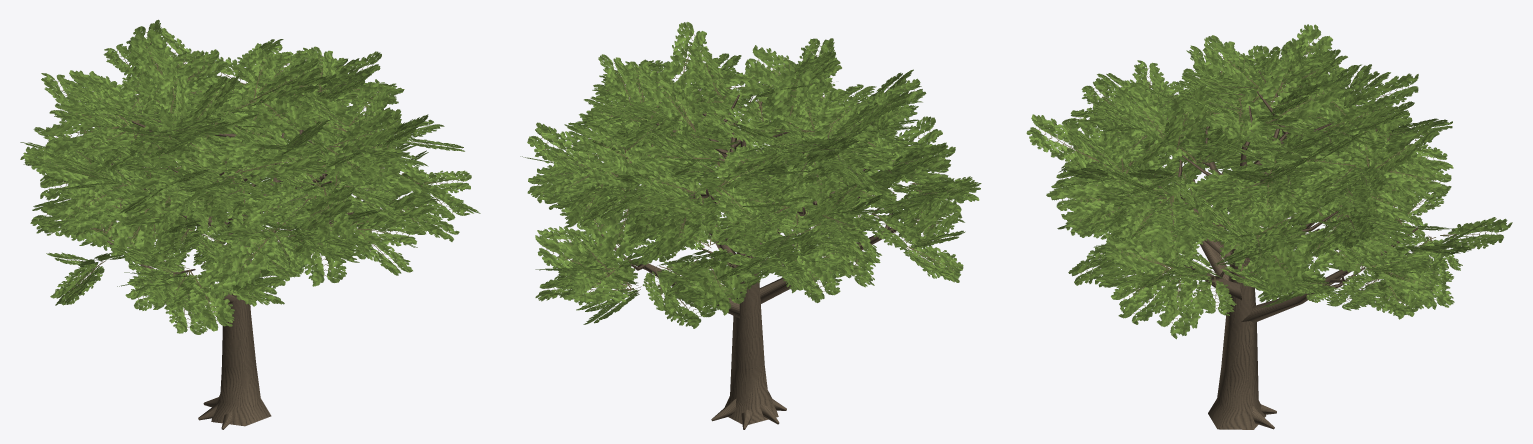
Rendered from oak_far.glb.
3 views of the same model, side by side, from view 1: azimuth 30°, elevation 25°; view 2: azimuth 150°, elevation 25°; view 3: azimuth 270°, elevation 25° (orthographic).
Visible parts, largest first — view 1: oak_far; view 2: oak_far; view 3: oak_far.
Boxes of the visible parts, x1,y1,x2,y2 form: oak_far: [20, 19, 480, 429]; oak_far: [520, 22, 981, 429]; oak_far: [1026, 24, 1512, 429].
Size of the model in its own units: 9.21 by 7.58 by 10.21.
2 materials, 2 textured.
